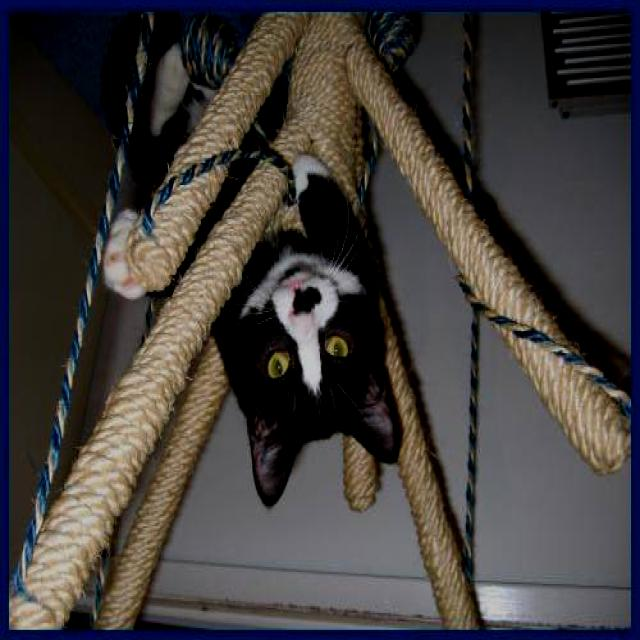Kucing: (81, 23, 422, 507)
